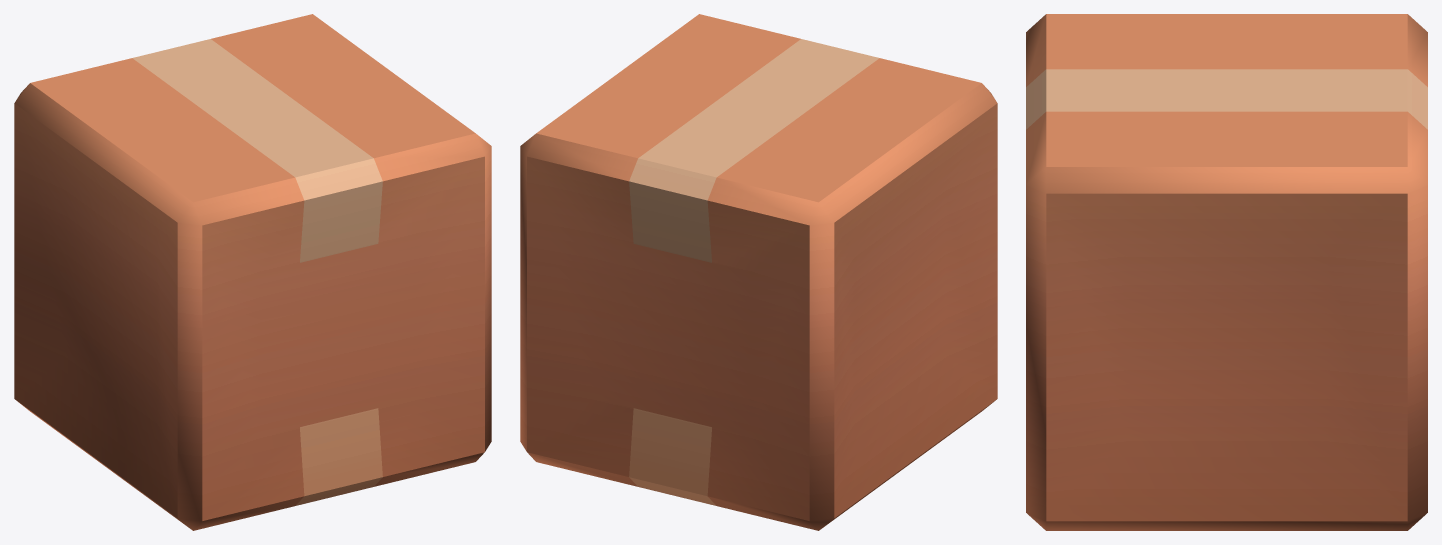
The model's file is k-survival-box.glb.
The picture shows the model from 3 angles, left to right: view 1: azimuth 30°, elevation 25°; view 2: azimuth 150°, elevation 25°; view 3: azimuth 270°, elevation 25°; orthographic projection. The views are drawn at different scales.
Visible parts, largest first — view 1: box; view 2: box; view 3: box.
Part boxes in pixels (x1,y1,x2,y2): box: [14, 14, 491, 530]; box: [520, 14, 997, 530]; box: [1026, 14, 1427, 530].
Size of the model in its own units: 0.25 by 0.25 by 0.25.
Materials: 1 (1 with a texture image).
